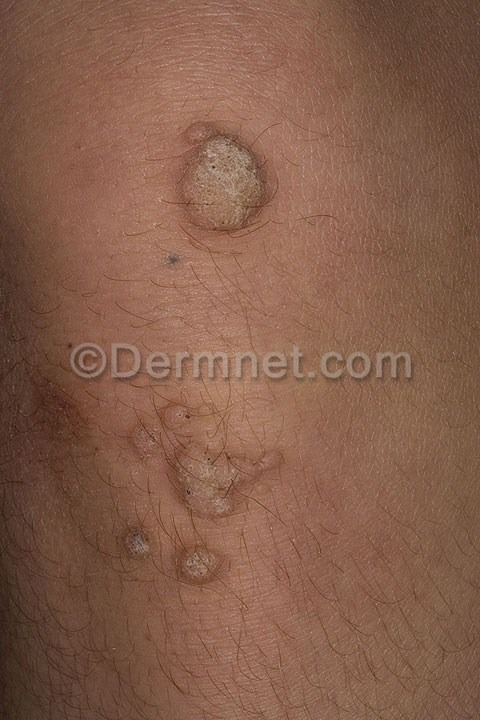Warts: (114, 386, 288, 600), (156, 100, 282, 244)
